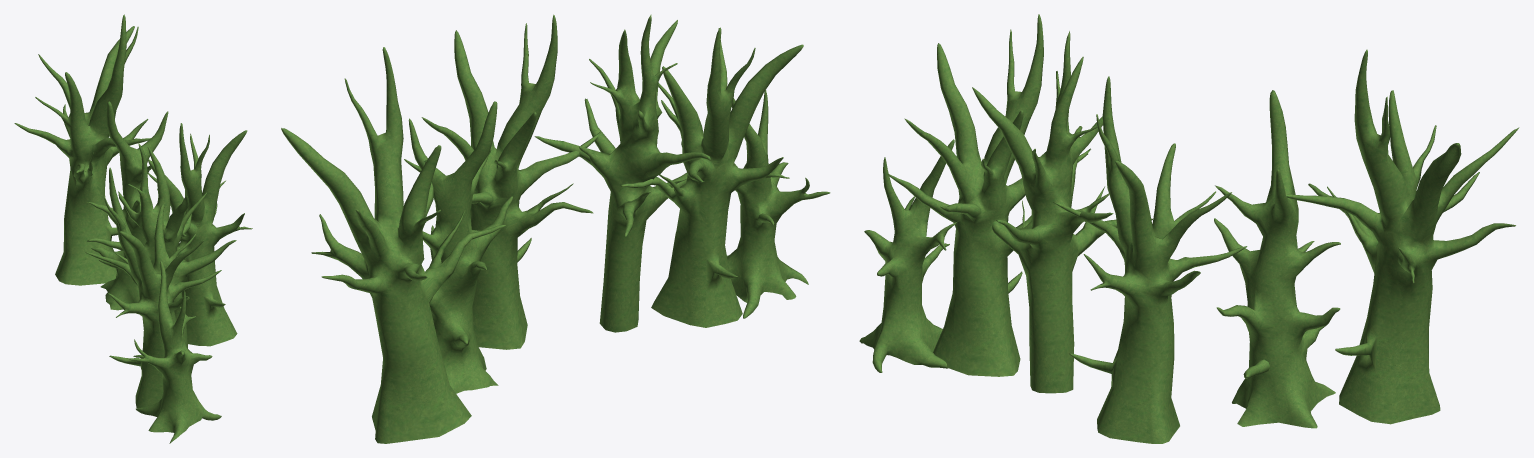
The model's file is SM_ENV_KNFRST_DistanceTree_GroupG.FBX.
The picture shows the model from 3 angles, left to right: view 1: azimuth 30°, elevation 25°; view 2: azimuth 150°, elevation 25°; view 3: azimuth 270°, elevation 25°; orthographic projection. The views are drawn at different scales.
Parts seen in each view (by area): view 1: SM_ENV_KNFRST_DistanceTree_GroupG; view 2: SM_ENV_KNFRST_DistanceTree_GroupG; view 3: SM_ENV_KNFRST_DistanceTree_GroupG.
Part boxes in pixels (left/top/right/bottom): SM_ENV_KNFRST_DistanceTree_GroupG: left=14, top=14, right=252, bottom=443; SM_ENV_KNFRST_DistanceTree_GroupG: left=281, top=14, right=830, bottom=443; SM_ENV_KNFRST_DistanceTree_GroupG: left=859, top=14, right=1519, bottom=443.
Size of the model in its own units: 8373 by 10633 by 16492.
